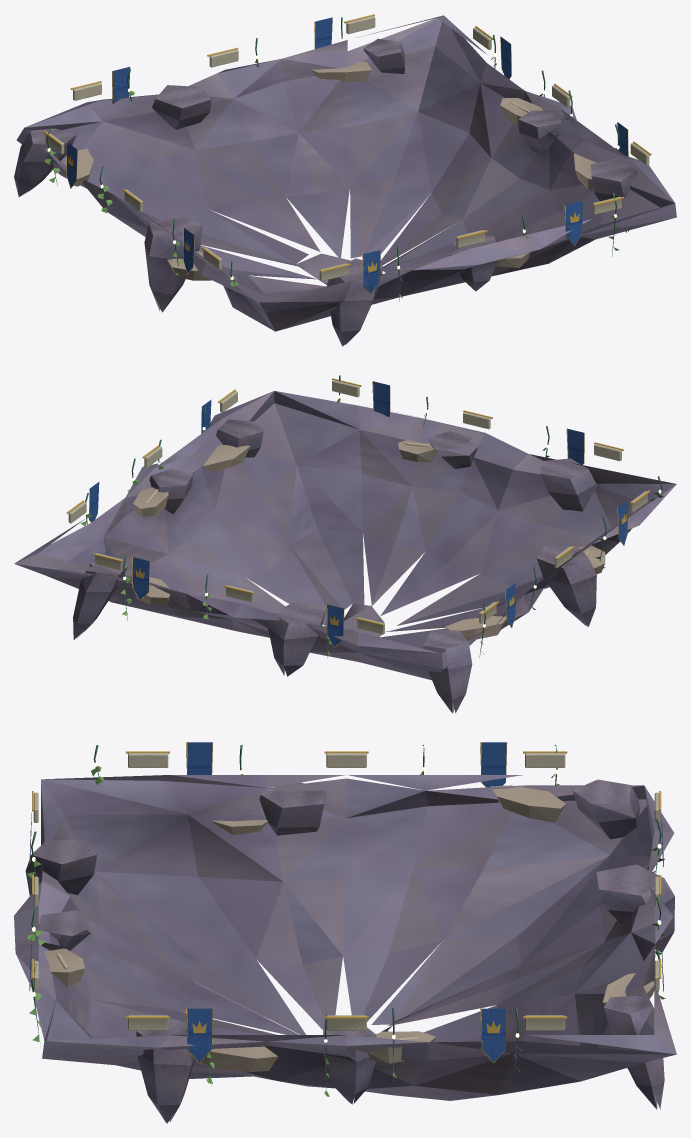
File: crown-foundation-v2-low.glb
The picture shows the model from 3 angles, top to bottom: view 1: azimuth 30°, elevation 25°; view 2: azimuth 150°, elevation 25°; view 3: azimuth 270°, elevation 25°; orthographic projection. The views are drawn at different scales.
Parts seen in each view (by area): view 1: crown-foundation-v2; view 2: crown-foundation-v2; view 3: crown-foundation-v2.
Boxes of the visible parts, x1,y1,x2,y2 form: crown-foundation-v2: [14, 14, 676, 346]; crown-foundation-v2: [14, 375, 676, 713]; crown-foundation-v2: [14, 742, 676, 1123].
Bounding box in the file's own units: 26.74 × 8.35 × 27.05.
Materials: 7 (7 with a texture image).
